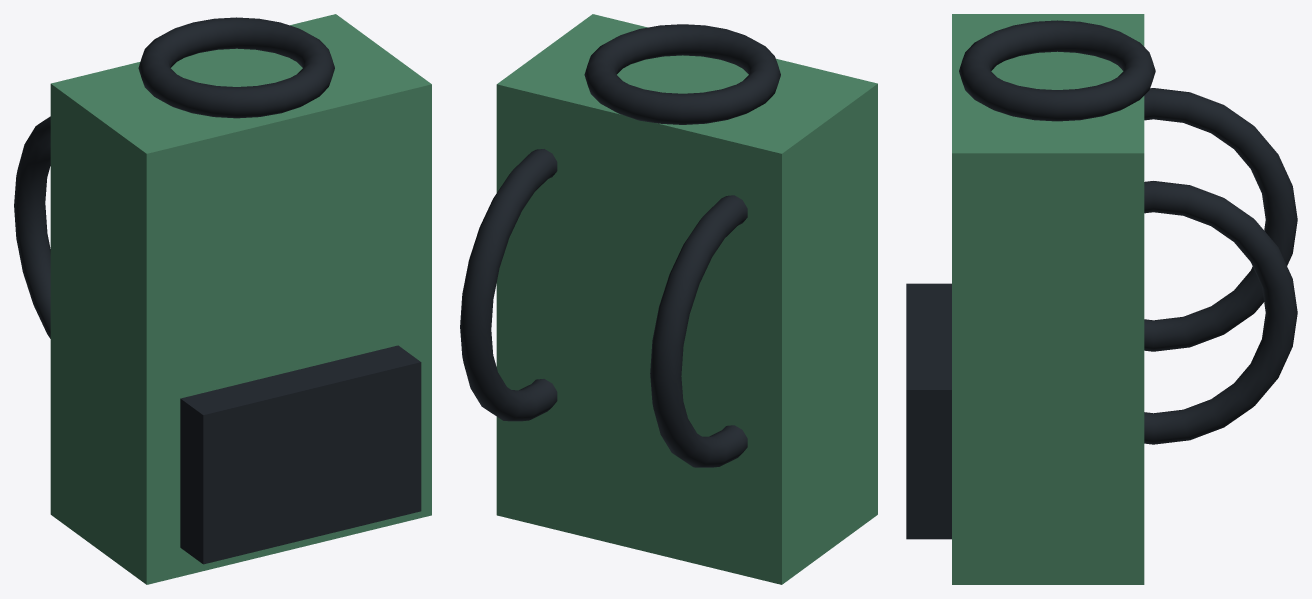
File: backpack.glb
The picture shows the model from 3 angles, left to right: view 1: azimuth 30°, elevation 25°; view 2: azimuth 150°, elevation 25°; view 3: azimuth 270°, elevation 25°; orthographic projection.
Bounding box in the file's own units: 0.72 × 1.1 × 0.855.
